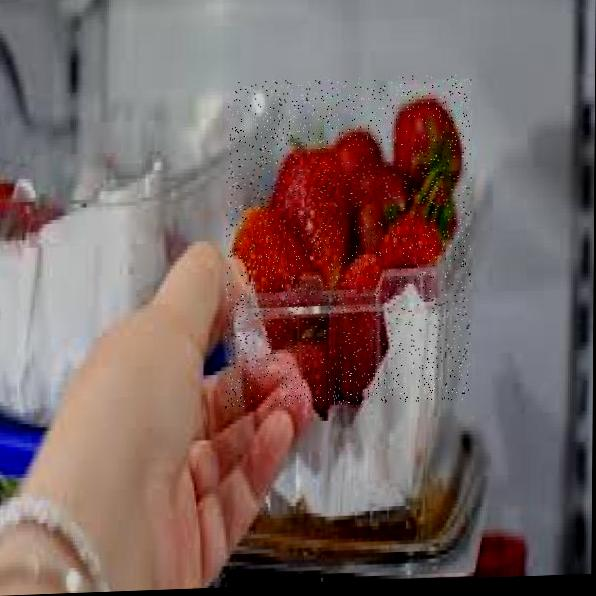strawberries: (225, 73, 472, 409)
